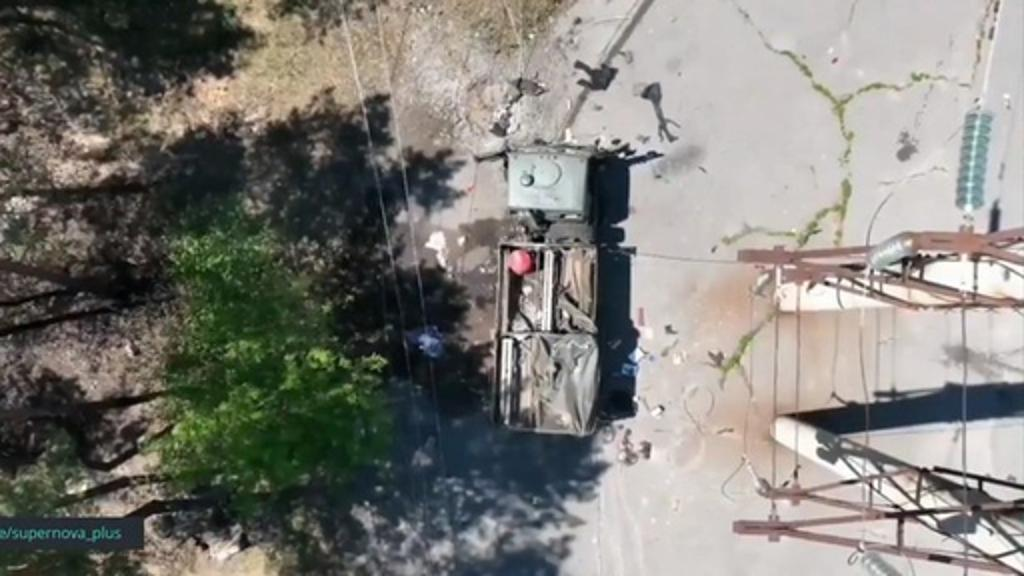TRUCK: (476, 128, 612, 450)
